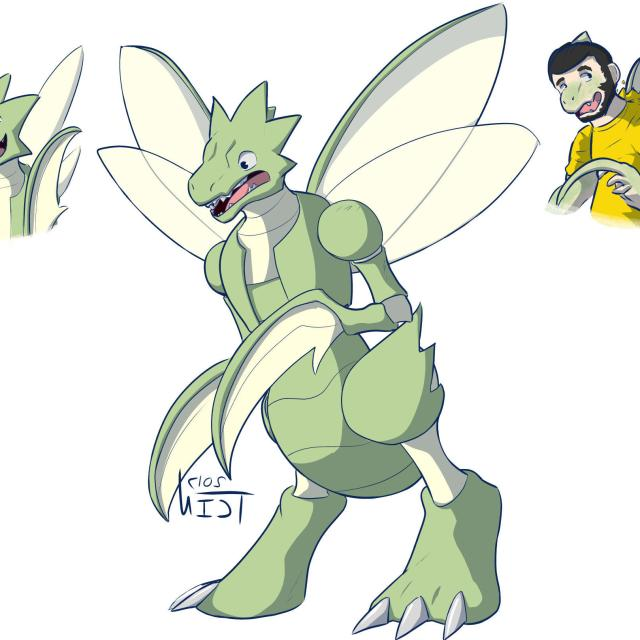Scyther: (126, 45, 501, 640)
